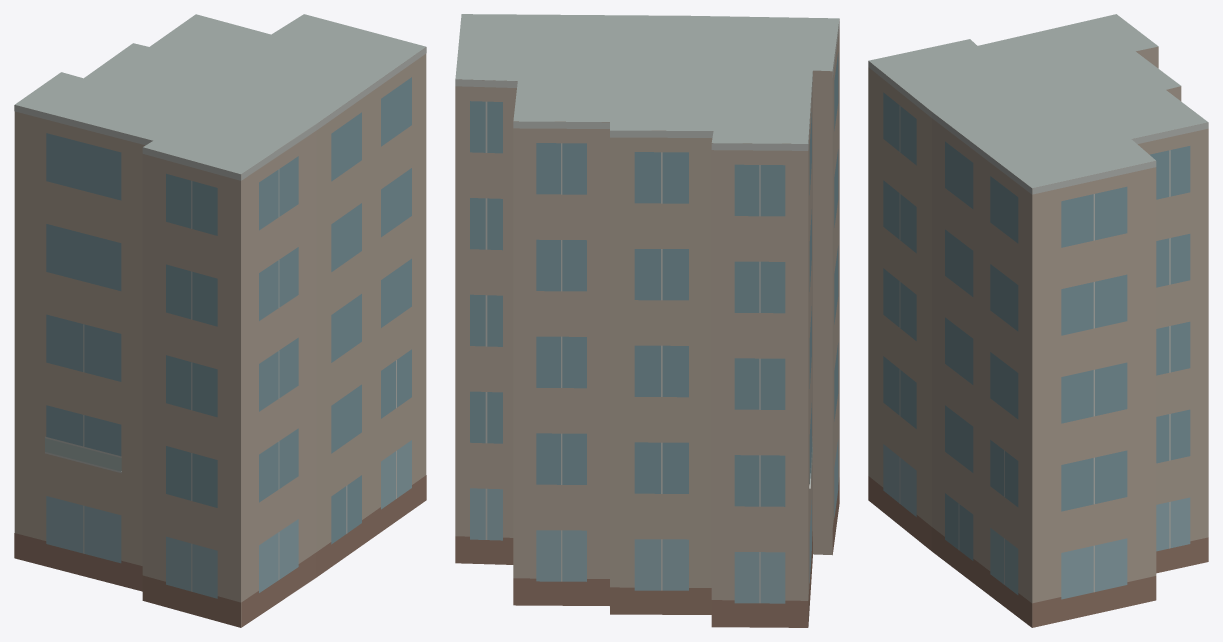
Rendered from survey-upis-32980115.glb.
3 renders of one model, left to right at view 1: azimuth 30°, elevation 25°; view 2: azimuth 150°, elevation 25°; view 3: azimuth 270°, elevation 25°, orthographic. The views are drawn at different scales.
Visible parts, largest first — view 1: survey-upis-32980115.tmp; view 2: survey-upis-32980115.tmp; view 3: survey-upis-32980115.tmp.
Boxes of the visible parts, x1,y1,x2,y2 form: survey-upis-32980115.tmp: (14,14,426,627); survey-upis-32980115.tmp: (455,14,839,627); survey-upis-32980115.tmp: (868,14,1208,627).
Size of the model in its own units: 14.29 by 16.8 by 11.79.
